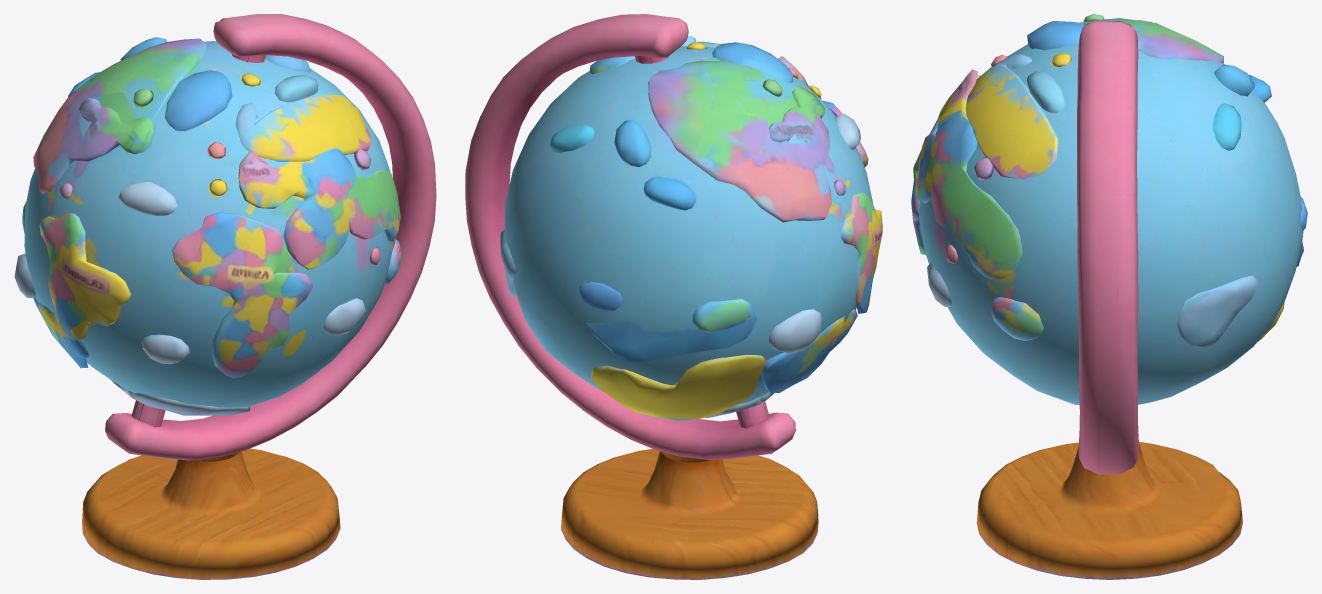
Rendered from world-globe.glb.
3 views of the same model, side by side, from view 1: azimuth 30°, elevation 25°; view 2: azimuth 150°, elevation 25°; view 3: azimuth 270°, elevation 25° (orthographic). The views are drawn at different scales.
Visible parts, largest first — view 1: geometry_0; view 2: geometry_0; view 3: geometry_0.
Part boxes in pixels (x1,y1,x2,y2): geometry_0: (14, 14, 436, 579); geometry_0: (465, 14, 882, 579); geometry_0: (911, 14, 1307, 579).
Size of the model in its own units: 0.8126 by 1 by 0.7017.
Materials: 1 (1 with a texture image).
